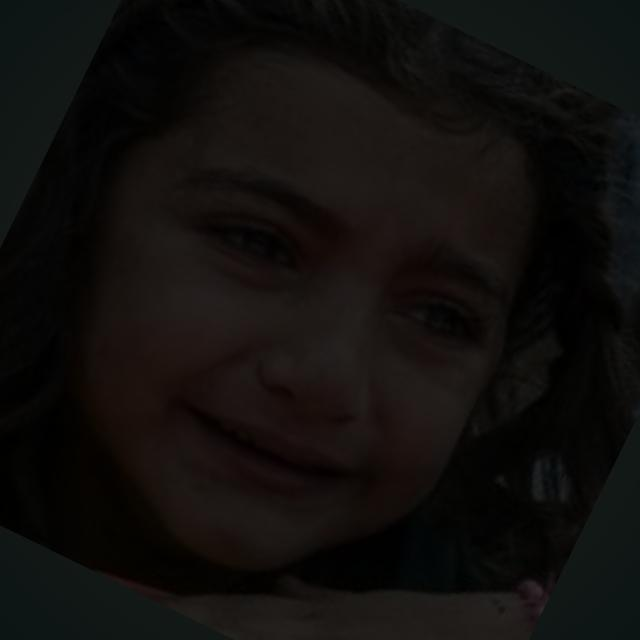Sad: (123, 73, 492, 573)
